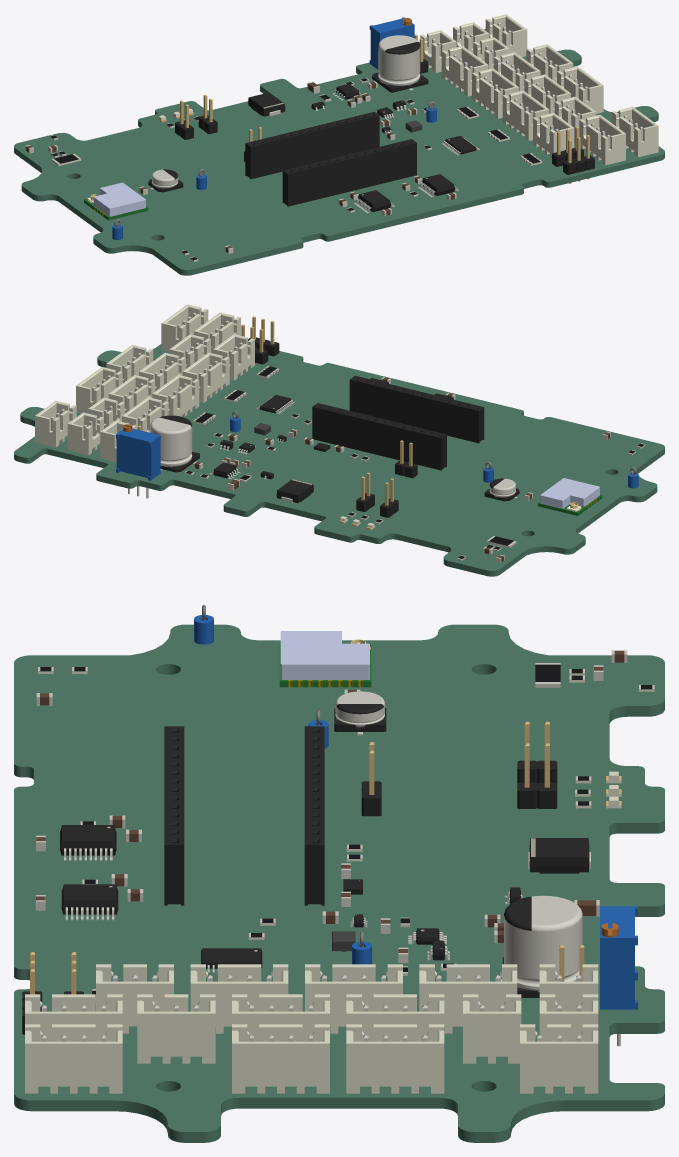
3 renders of one model, top to bottom at view 1: azimuth 30°, elevation 25°; view 2: azimuth 150°, elevation 25°; view 3: azimuth 270°, elevation 25°, orthographic. The views are drawn at different scales.
Parts seen in each view (by area): view 1: =>[0:1:1:67], =>[0:1:1:3] (×9), =>[0:1:1:11] (×2), =>[0:1:1:31] (×3), =>[0:1:1:25], =>[0:1:1:21] (×3), =>[0:1:1:49] (×2), NAUO6, =>[0:1:1:45] (×2), =>[0:1:1:37], =>[0:1:1:23] (×2), =>[0:1:1:47] (+2 smaller); view 2: =>[0:1:1:67], =>[0:1:1:3] (×9), =>[0:1:1:11] (×2), =>[0:1:1:31] (×3), =>[0:1:1:21] (×3), =>[0:1:1:37], =>[0:1:1:25], =>[0:1:1:23] (×3), NAUO6, =>[0:1:1:47], =>[0:1:1:7], =>[0:1:1:49] (+1 smaller); view 3: =>[0:1:1:67], =>[0:1:1:3] (×9), =>[0:1:1:31] (×3), =>[0:1:1:11] (×2), =>[0:1:1:21] (×3), =>[0:1:1:25], NAUO6, =>[0:1:1:45] (×2), =>[0:1:1:37], =>[0:1:1:23] (×3), =>[0:1:1:47], =>[0:1:1:7] (+2 smaller).
Part boxes in pixels (bbox=[...]): =>[0:1:1:67]: bbox=[14, 29, 664, 275]; =>[0:1:1:3] (×9): bbox=[441, 44, 658, 165]; =>[0:1:1:11] (×2): bbox=[245, 111, 416, 206]; =>[0:1:1:31] (×3): bbox=[485, 14, 596, 157]; =>[0:1:1:25]: bbox=[372, 35, 428, 92]; =>[0:1:1:21] (×3): bbox=[420, 22, 509, 72]; =>[0:1:1:49] (×2): bbox=[552, 126, 594, 183]; NAUO6: bbox=[93, 182, 145, 216]; =>[0:1:1:45] (×2): bbox=[354, 174, 458, 213]; =>[0:1:1:37]: bbox=[369, 17, 414, 69]; =>[0:1:1:23] (×2): bbox=[175, 94, 217, 139]; =>[0:1:1:47]: bbox=[248, 92, 285, 116]; =>[0:1:1:67]: bbox=[14, 344, 664, 576]; =>[0:1:1:3] (×9): bbox=[76, 304, 240, 432]; =>[0:1:1:11] (×2): bbox=[312, 375, 484, 470]; =>[0:1:1:31] (×3): bbox=[35, 334, 254, 447]; =>[0:1:1:21] (×3): bbox=[67, 397, 136, 462]; =>[0:1:1:37]: bbox=[116, 424, 160, 498]; =>[0:1:1:25]: bbox=[150, 415, 199, 472]; =>[0:1:1:23] (×3): bbox=[356, 440, 417, 517]; NAUO6: bbox=[540, 478, 599, 508]; =>[0:1:1:47]: bbox=[276, 479, 313, 503]; =>[0:1:1:7]: bbox=[484, 478, 519, 501]; =>[0:1:1:49]: bbox=[248, 316, 279, 356]; =>[0:1:1:67]: bbox=[14, 624, 664, 1142]; =>[0:1:1:3] (×9): bbox=[25, 964, 517, 1093]; =>[0:1:1:31] (×3): bbox=[96, 964, 598, 1093]; =>[0:1:1:11] (×2): bbox=[164, 726, 324, 905]; =>[0:1:1:21] (×3): bbox=[463, 964, 598, 1063]; =>[0:1:1:25]: bbox=[500, 895, 582, 997]; NAUO6: bbox=[280, 631, 369, 679]; =>[0:1:1:45] (×2): bbox=[60, 825, 118, 920]; =>[0:1:1:37]: bbox=[600, 906, 637, 1046]; =>[0:1:1:23] (×3): bbox=[361, 721, 557, 816]; =>[0:1:1:47]: bbox=[528, 838, 590, 873]; =>[0:1:1:7]: bbox=[334, 691, 386, 735].
Bounding box in the file's own units: 0.1522 × 0.0171 × 0.0825.
